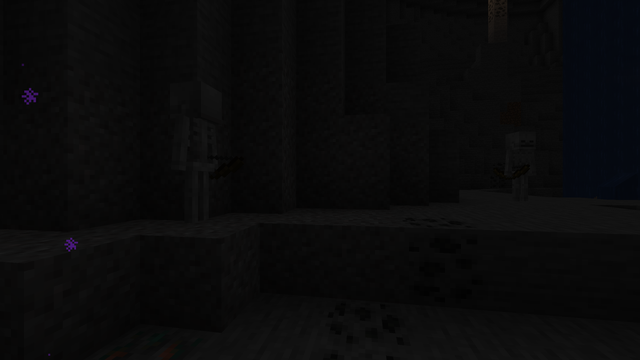squelettes: (164, 80, 225, 224), (503, 131, 537, 201)
